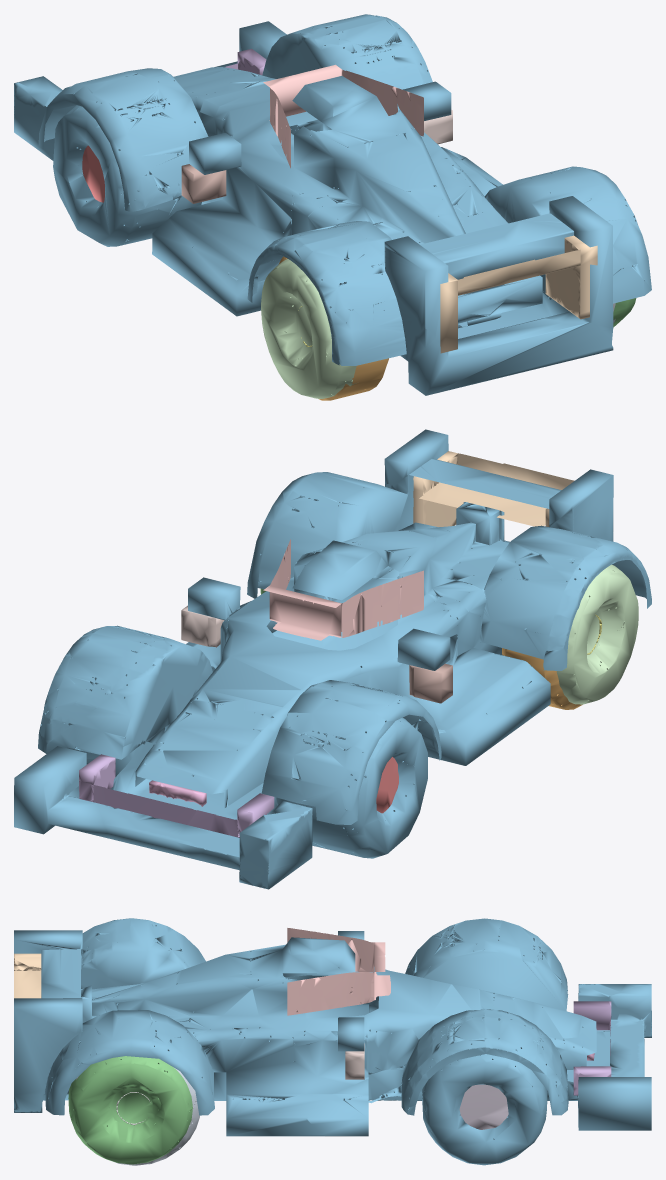
File: cabinet.glb
3 views of the same model, one above another, from view 1: azimuth 30°, elevation 25°; view 2: azimuth 150°, elevation 25°; view 3: azimuth 270°, elevation 25° (orthographic). The views are drawn at different scales.
Parts seen in each view (by area): view 1: d94bb5dff9bae31db75fc4ad23328cea_dual_latest_p1, d94bb5dff9bae31db75fc4ad23328cea_dual_latest_p0, d94bb5dff9bae31db75fc4ad23328cea_dual_latest_p9, d94bb5dff9bae31db75fc4ad23328cea_dual_latest_p10, d94bb5dff9bae31db75fc4ad23328cea_dual_latest_p7, d94bb5dff9bae31db75fc4ad23328cea_dual_latest_p4, d94bb5dff9bae31db75fc4ad23328cea_dual_latest_p5, d94bb5dff9bae31db75fc4ad23328cea_dual_latest_p13, d94bb5dff9bae31db75fc4ad23328cea_dual_latest_p8; view 2: d94bb5dff9bae31db75fc4ad23328cea_dual_latest_p1, d94bb5dff9bae31db75fc4ad23328cea_dual_latest_p0, d94bb5dff9bae31db75fc4ad23328cea_dual_latest_p10, d94bb5dff9bae31db75fc4ad23328cea_dual_latest_p9, d94bb5dff9bae31db75fc4ad23328cea_dual_latest_p8, d94bb5dff9bae31db75fc4ad23328cea_dual_latest_p7, d94bb5dff9bae31db75fc4ad23328cea_dual_latest_p13, d94bb5dff9bae31db75fc4ad23328cea_dual_latest_p4, d94bb5dff9bae31db75fc4ad23328cea_dual_latest_p5, d94bb5dff9bae31db75fc4ad23328cea_dual_latest_p11; view 3: d94bb5dff9bae31db75fc4ad23328cea_dual_latest_p1, d94bb5dff9bae31db75fc4ad23328cea_dual_latest_p2, d94bb5dff9bae31db75fc4ad23328cea_dual_latest_p10, d94bb5dff9bae31db75fc4ad23328cea_dual_latest_p14, d94bb5dff9bae31db75fc4ad23328cea_dual_latest_p8, d94bb5dff9bae31db75fc4ad23328cea_dual_latest_p9, d94bb5dff9bae31db75fc4ad23328cea_dual_latest_p12, d94bb5dff9bae31db75fc4ad23328cea_dual_latest_p13.
Boxes of the visible parts, left/top/right/bottom form: d94bb5dff9bae31db75fc4ad23328cea_dual_latest_p1: left=14, top=14, right=651, bottom=395; d94bb5dff9bae31db75fc4ad23328cea_dual_latest_p0: left=261, top=259, right=356, bottom=398; d94bb5dff9bae31db75fc4ad23328cea_dual_latest_p9: left=440, top=235, right=597, bottom=353; d94bb5dff9bae31db75fc4ad23328cea_dual_latest_p10: left=263, top=64, right=423, bottom=168; d94bb5dff9bae31db75fc4ad23328cea_dual_latest_p7: left=181, top=164, right=226, bottom=203; d94bb5dff9bae31db75fc4ad23328cea_dual_latest_p4: left=278, top=256, right=388, bottom=400; d94bb5dff9bae31db75fc4ad23328cea_dual_latest_p5: left=82, top=145, right=104, bottom=202; d94bb5dff9bae31db75fc4ad23328cea_dual_latest_p13: left=424, top=110, right=452, bottom=144; d94bb5dff9bae31db75fc4ad23328cea_dual_latest_p8: left=225, top=48, right=266, bottom=75; d94bb5dff9bae31db75fc4ad23328cea_dual_latest_p1: left=14, top=429, right=651, bottom=889; d94bb5dff9bae31db75fc4ad23328cea_dual_latest_p0: left=556, top=564, right=638, bottom=704; d94bb5dff9bae31db75fc4ad23328cea_dual_latest_p10: left=263, top=539, right=423, bottom=640; d94bb5dff9bae31db75fc4ad23328cea_dual_latest_p9: left=413, top=451, right=574, bottom=526; d94bb5dff9bae31db75fc4ad23328cea_dual_latest_p8: left=79, top=754, right=274, bottom=837; d94bb5dff9bae31db75fc4ad23328cea_dual_latest_p7: left=409, top=663, right=452, bottom=703; d94bb5dff9bae31db75fc4ad23328cea_dual_latest_p13: left=181, top=605, right=224, bottom=647; d94bb5dff9bae31db75fc4ad23328cea_dual_latest_p4: left=502, top=648, right=582, bottom=709; d94bb5dff9bae31db75fc4ad23328cea_dual_latest_p5: left=376, top=757, right=398, bottom=813; d94bb5dff9bae31db75fc4ad23328cea_dual_latest_p11: left=149, top=780, right=206, bottom=806; d94bb5dff9bae31db75fc4ad23328cea_dual_latest_p1: left=14, top=918, right=651, bottom=1165; d94bb5dff9bae31db75fc4ad23328cea_dual_latest_p2: left=68, top=1056, right=192, bottom=1164; d94bb5dff9bae31db75fc4ad23328cea_dual_latest_p10: left=287, top=928, right=390, bottom=1015; d94bb5dff9bae31db75fc4ad23328cea_dual_latest_p14: left=459, top=1084, right=508, bottom=1129; d94bb5dff9bae31db75fc4ad23328cea_dual_latest_p8: left=573, top=1001, right=611, bottom=1095; d94bb5dff9bae31db75fc4ad23328cea_dual_latest_p9: left=14, top=953, right=41, bottom=998; d94bb5dff9bae31db75fc4ad23328cea_dual_latest_p12: left=76, top=1068, right=199, bottom=1165; d94bb5dff9bae31db75fc4ad23328cea_dual_latest_p13: left=345, top=1043, right=364, bottom=1079.
Size of the model in its own units: 1.69 by 0.9983 by 3.52.
